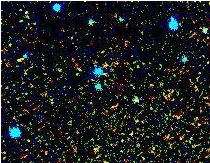star: (43, 58, 73, 88)
